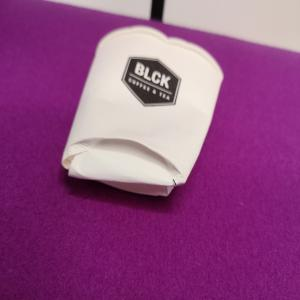Cup: (62, 24, 226, 199)
